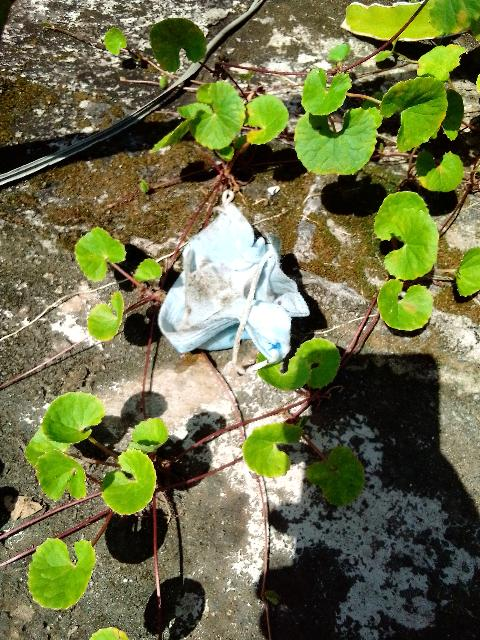mask: (168, 177, 289, 365)
